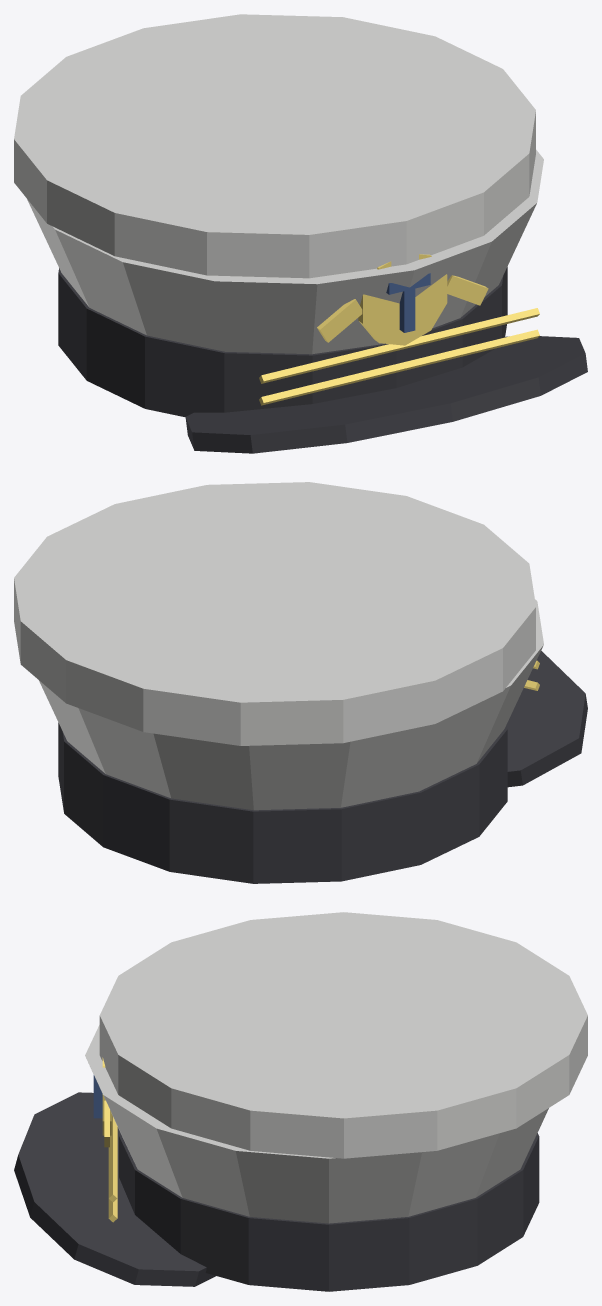
Rendered from CR_GorraCapitan.fbx.
The picture shows the model from 3 angles, top to bottom: view 1: azimuth 30°, elevation 25°; view 2: azimuth 150°, elevation 25°; view 3: azimuth 270°, elevation 25°; orthographic projection. The views are drawn at different scales.
Visible parts, largest first — view 1: CR_GorraCapitan; view 2: CR_GorraCapitan; view 3: CR_GorraCapitan.
Boxes of the visible parts, <box> form: CR_GorraCapitan: <box>14,14,587,453</box>; CR_GorraCapitan: <box>14,482,587,883</box>; CR_GorraCapitan: <box>14,912,587,1291</box>.
Bounding box in the file's own units: 0.33 × 0.1561 × 0.388.
